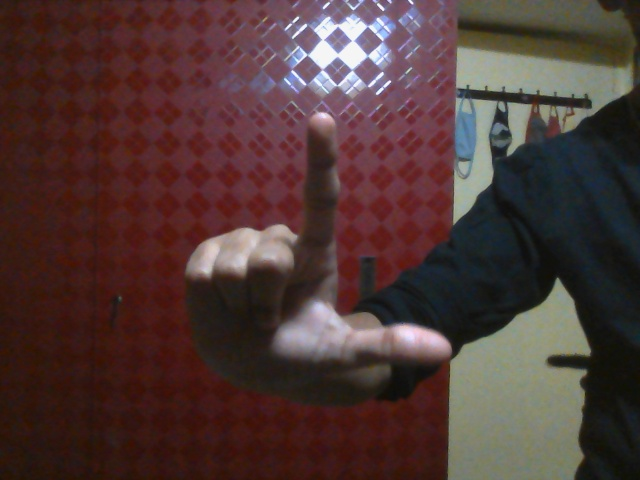L: (184, 112, 451, 372)
